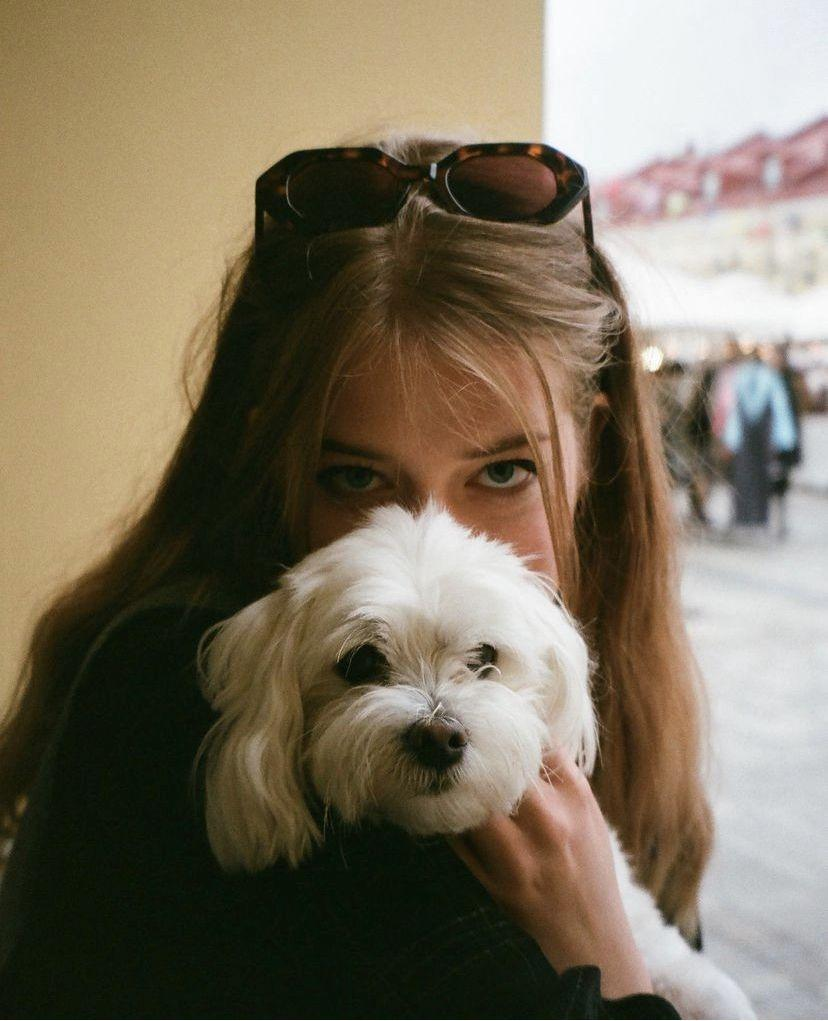adult_dog: (197, 507, 759, 1021)
